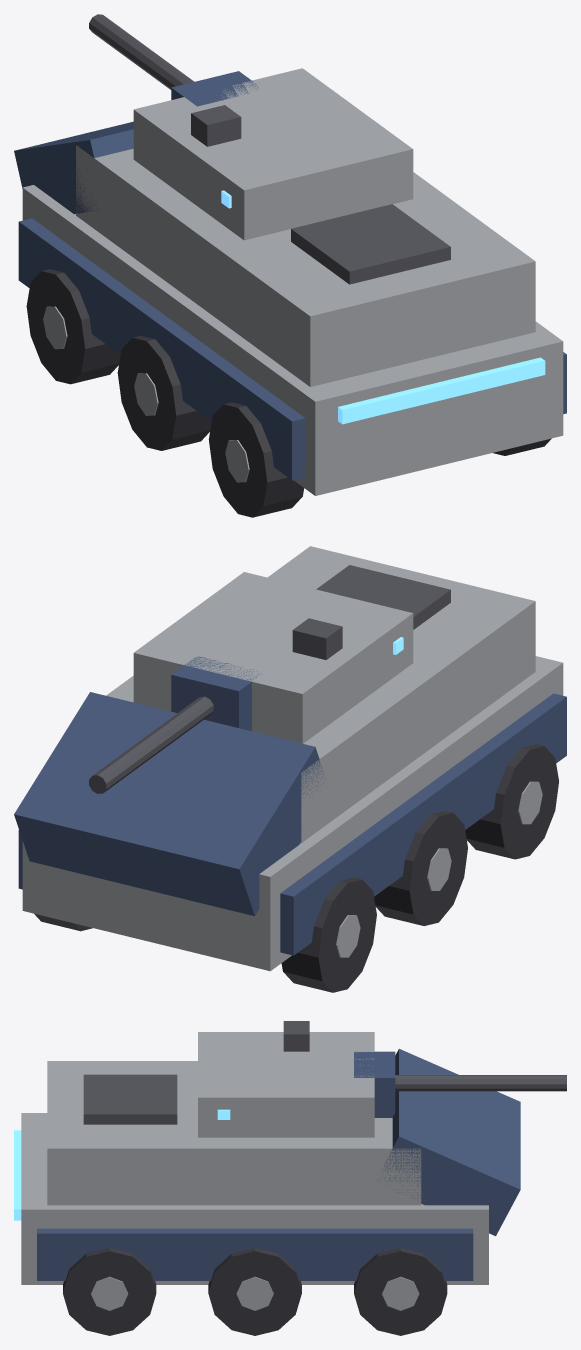
File: us_guardian_ifv.glb
3 renders of one model, top to bottom at view 1: azimuth 30°, elevation 25°; view 2: azimuth 150°, elevation 25°; view 3: azimuth 270°, elevation 25°, orthographic. The views are drawn at different scales.
Parts seen in each view (by area): view 1: HullUp, Turret, HullLow, SideSkirtR, Hatch, Wheel, Wheel.001, Wheel.002, NoseWedge, RearStrip, Hub.002, Hub (+1 smaller); view 2: NoseWedge, Turret, HullUp, HullLow, SideSkirtR, Wheel.002, Wheel, Wheel.001, Hatch, Hub, Hub.001, Hub.002; view 3: HullUp, Turret, SideSkirtL, HullLow, NoseWedge, Wheel.004, Wheel.005, Wheel.003, Hatch, Hub.003, Hub.005, Hub.004 (+1 smaller).
Boxes of the visible parts, left/top/right/bottom form: HullUp: left=76, top=145, right=535, bottom=386; Turret: left=89, top=14, right=413, bottom=240; HullLow: left=22, top=185, right=563, bottom=495; SideSkirtR: left=18, top=218, right=305, bottom=480; Hatch: left=291, top=204, right=450, bottom=284; Wheel: left=208, top=402, right=304, bottom=517; Wheel.001: left=117, top=335, right=211, bottom=450; Wheel.002: left=26, top=269, right=120, bottom=384; NoseWedge: left=14, top=121, right=133, bottom=213; RearStrip: left=338, top=357, right=545, bottom=424; Hub.002: left=43, top=306, right=67, bottom=349; Hub: left=225, top=440, right=249, bottom=482; NoseWedge: left=14, top=692, right=325, bottom=916; Turret: left=89, top=572, right=413, bottom=793; HullUp: left=106, top=546, right=535, bottom=843; HullLow: left=22, top=656, right=563, bottom=971; SideSkirtR: left=280, top=693, right=566, bottom=955; Wheel.002: left=281, top=877, right=376, bottom=992; Wheel: left=465, top=744, right=558, bottom=859; Wheel.001: left=374, top=811, right=467, bottom=925; Hatch: left=316, top=565, right=450, bottom=629; Hub: left=518, top=781, right=542, bottom=824; Hub.001: left=427, top=848, right=451, bottom=890; Hub.002: left=336, top=915, right=360, bottom=957; HullUp: left=47, top=1061, right=421, bottom=1205; Turret: left=198, top=1021, right=566, bottom=1137; SideSkirtL: left=37, top=1228, right=473, bottom=1280; HullLow: left=21, top=1113, right=488, bottom=1284; NoseWedge: left=379, top=1048, right=520, bottom=1236; Wheel.004: left=208, top=1248, right=301, bottom=1335; Wheel.005: left=354, top=1248, right=447, bottom=1335; Wheel.003: left=63, top=1248, right=156, bottom=1335; Hatch: left=83, top=1074, right=177, bottom=1124; Hub.003: left=91, top=1276, right=128, bottom=1310; Hub.005: left=382, top=1276, right=419, bottom=1310; Hub.004: left=236, top=1276, right=273, bottom=1310.
Bounding box in the file's own units: 2.61 × 2.46 × 5.32.
